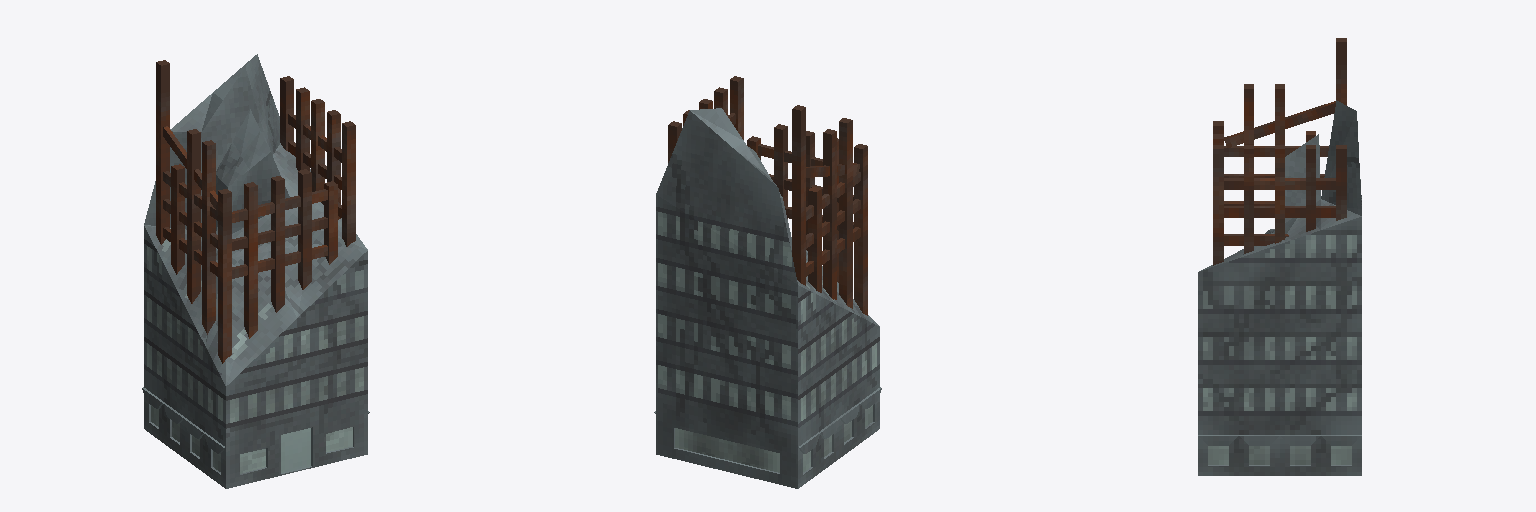
3 views of the same model, side by side, from view 1: azimuth 30°, elevation 25°; view 2: azimuth 150°, elevation 25°; view 3: azimuth 270°, elevation 25° (orthographic).
Visible parts, largest first — view 1: cuboid; view 2: cuboid; view 3: cuboid.
Part boxes in pixels (x1,y1,x2,y2): cuboid: (142,54,369,488); cuboid: (654,76,881,488); cuboid: (1198,38,1361,475).
Bounding box in the file's own units: 1.03 × 2.5 × 1.
Materials: 1 (1 with a texture image).